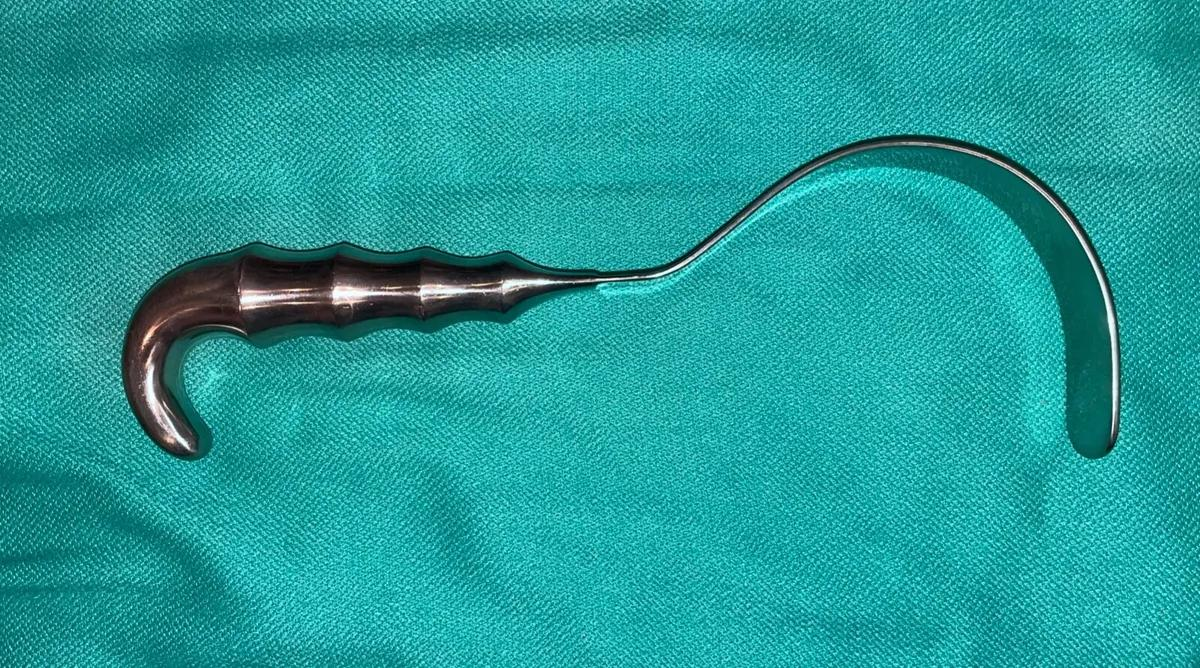Harrington Retractor: (97, 124, 1133, 488)
